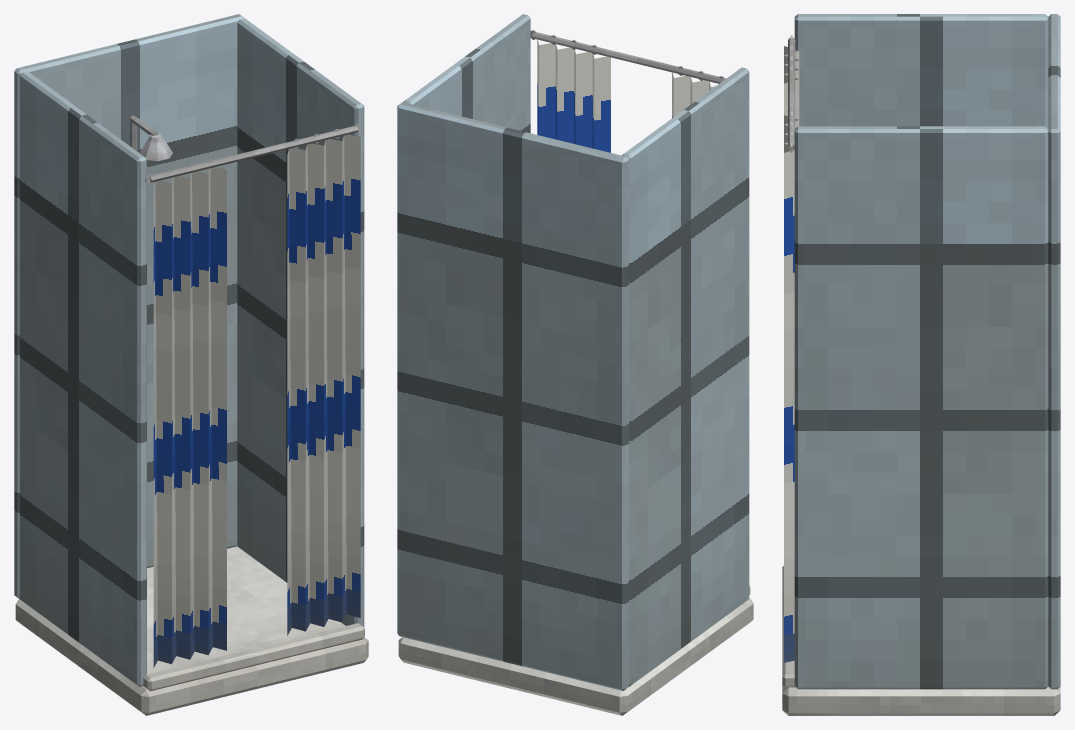
File: ShowerBox.glb
3 renders of one model, left to right at view 1: azimuth 30°, elevation 25°; view 2: azimuth 150°, elevation 25°; view 3: azimuth 270°, elevation 25°, orthographic. The views are drawn at different scales.
Visible parts, largest first — view 1: ShowerBox, ShowerCurtain; view 2: ShowerBox, ShowerCurtain; view 3: ShowerBox, ShowerCurtain.
Boxes of the visible parts, x1,y1,x2,y2 form: ShowerBox: [14, 14, 368, 715]; ShowerCurtain: [145, 124, 361, 667]; ShowerBox: [397, 14, 753, 715]; ShowerCurtain: [530, 30, 725, 152]; ShowerBox: [782, 14, 1060, 715]; ShowerCurtain: [784, 35, 799, 662].
Bounding box in the file's own units: 0.9 × 2.1 × 0.9.
Materials: 1 (1 with a texture image).
